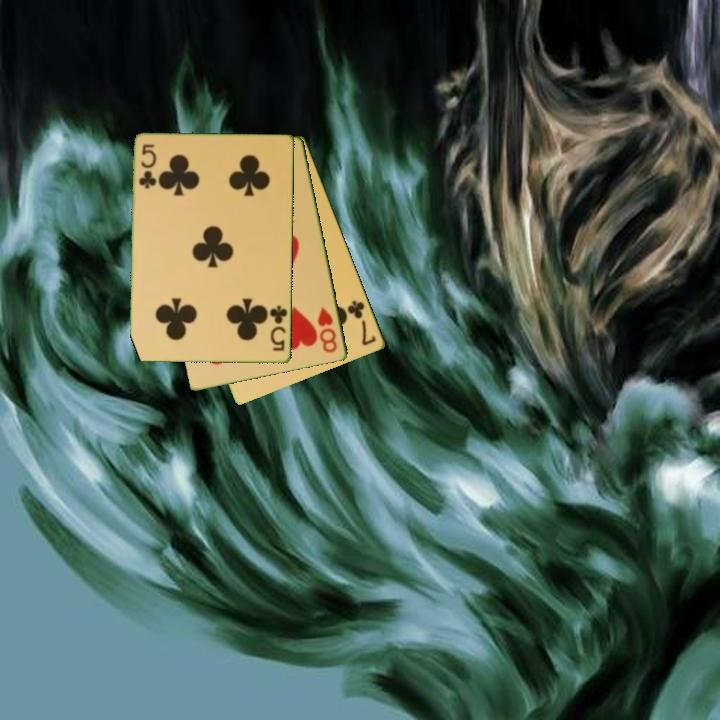5c: (266, 303, 290, 354), (136, 141, 158, 192)
7c: (344, 297, 379, 349)
8h: (314, 304, 340, 356)
